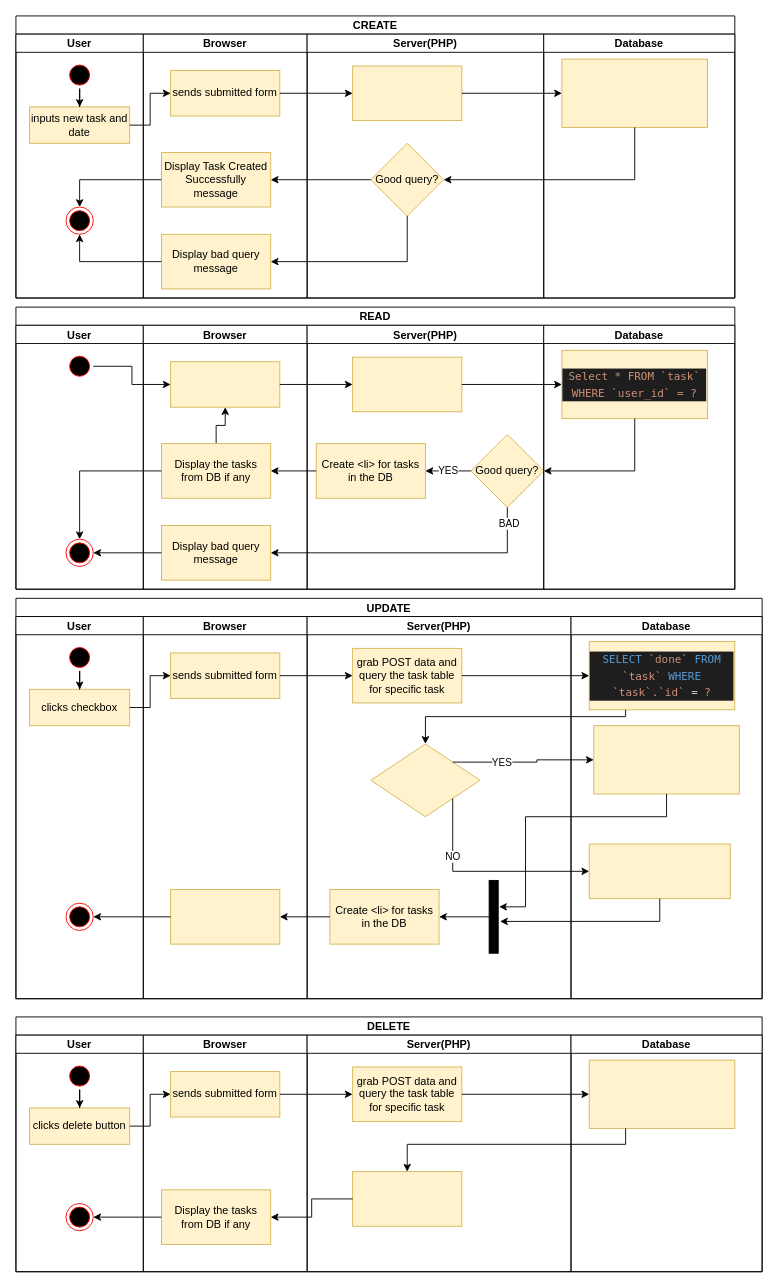
Image size: 778x1288. Some labels were removed from this diagram. Each missing label, with the centre of its shape:
"check if Done === 1" belongs at [425,780].
"Create <li> for remaining tasks in the DB" belongs at [407,1198].
"DELETE FROM `task` WHERE `id` = ?" belongs at [661,1093].
"Display the updated tasks from DB if any" belongs at [225,916].
"grab POST data and query the task table with user id" belongs at [407,93].
"grab username and id and query DB for recorded tasks" belongs at [407,384].
"INSERT INTO `task` ( user_id , text , date , done) VALUES (?,?,?,?)" belongs at [634,92].
"load page" belongs at [225,384].
"UPDATE `task` SET `done` = '0' WHERE `task`.`id` = ?" belongs at [666,759].
"UPDATE `task` SET `done` = '1' WHERE `task`.`id` = ?" belongs at [659,871].
